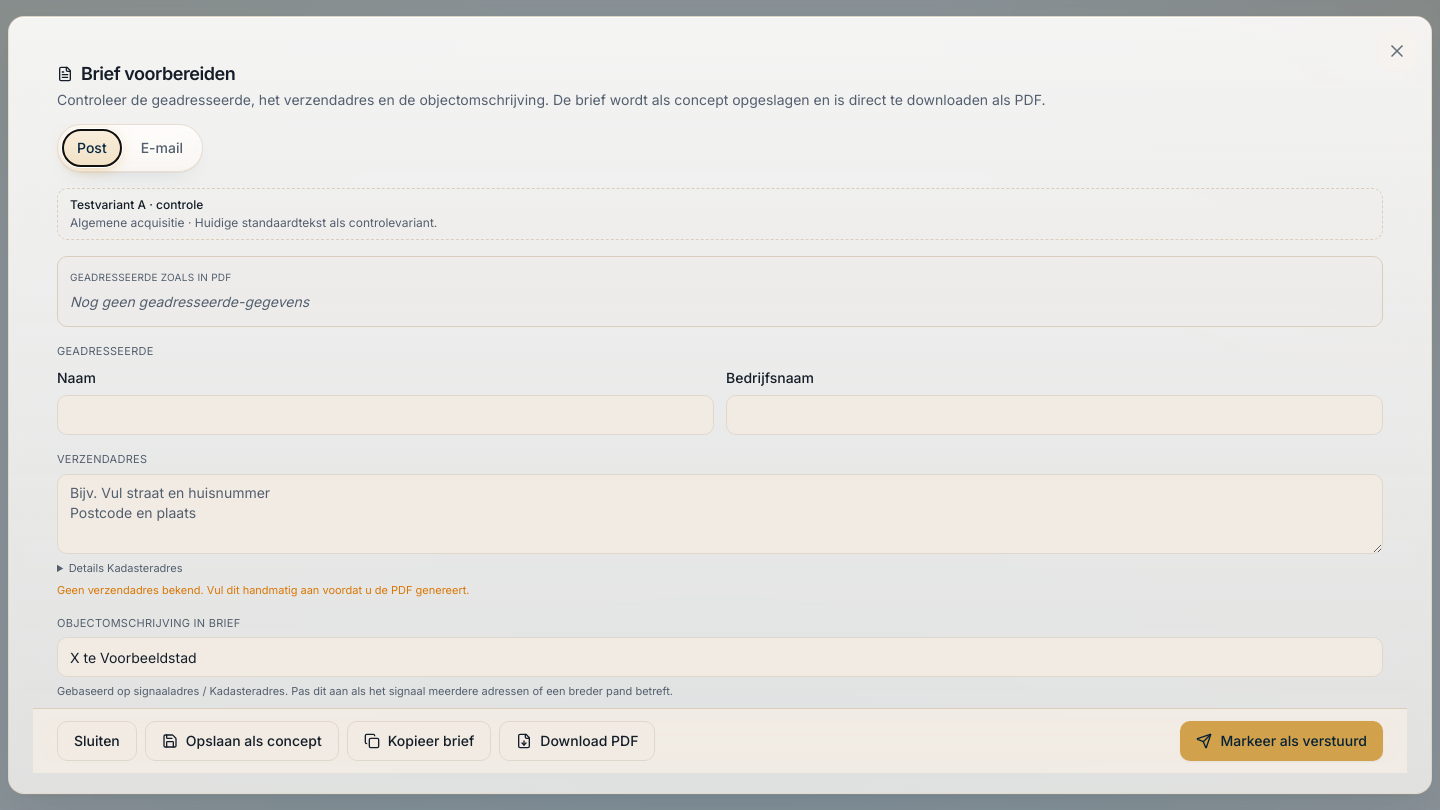
Test case: BriefVoorbereidenDialog — V2.2 kanaal & e-mail › e-mailmodus toont profielenselect en kopieerknop
Click the tab with test id "brief-kanaal-email".
click(162, 148)  # box [126,129,198,167]
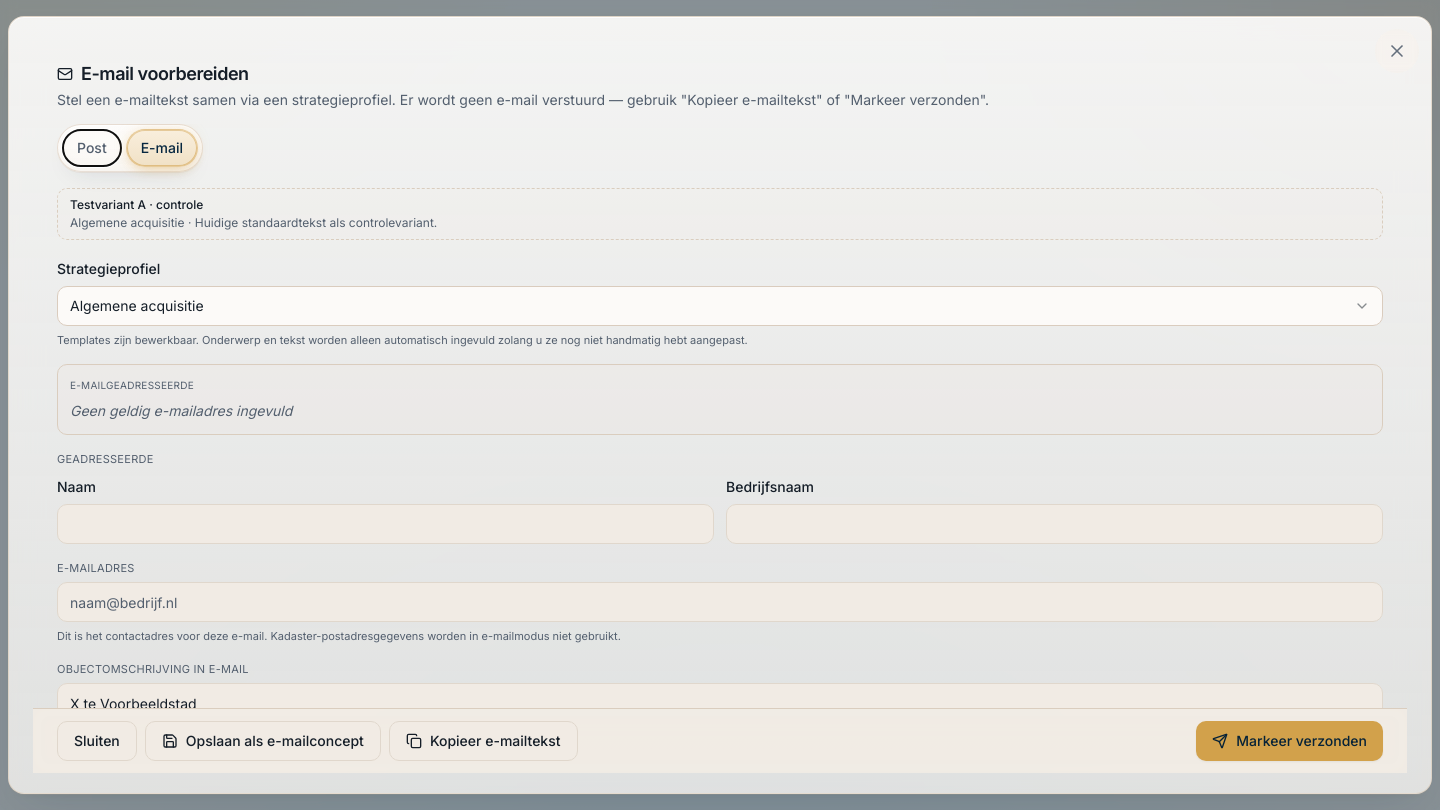
Check: the button with test id "brief-download-pdf" is gone
Check: the button with test id "brief-kopieer-email" is shown, box [389,721,578,761]
Check: the dropdown with test id "brief-email-profiel-trigger" is shown, box [57,286,1383,326]
